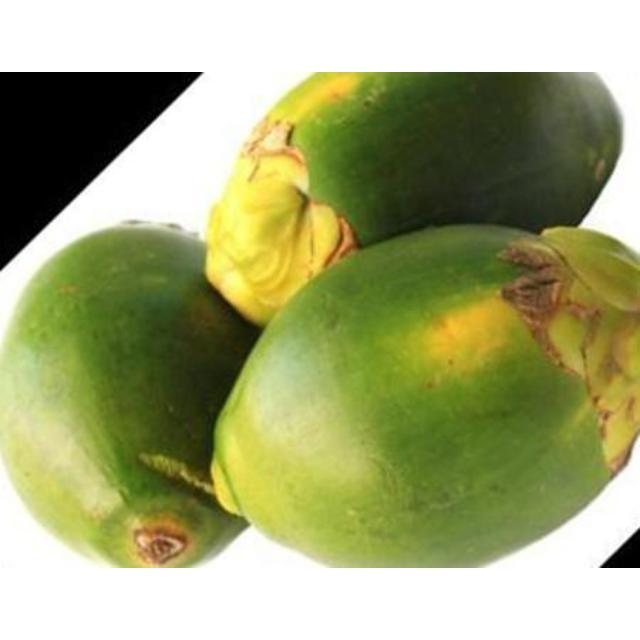good: (208, 224, 639, 567), (206, 72, 624, 327), (0, 221, 262, 567)
